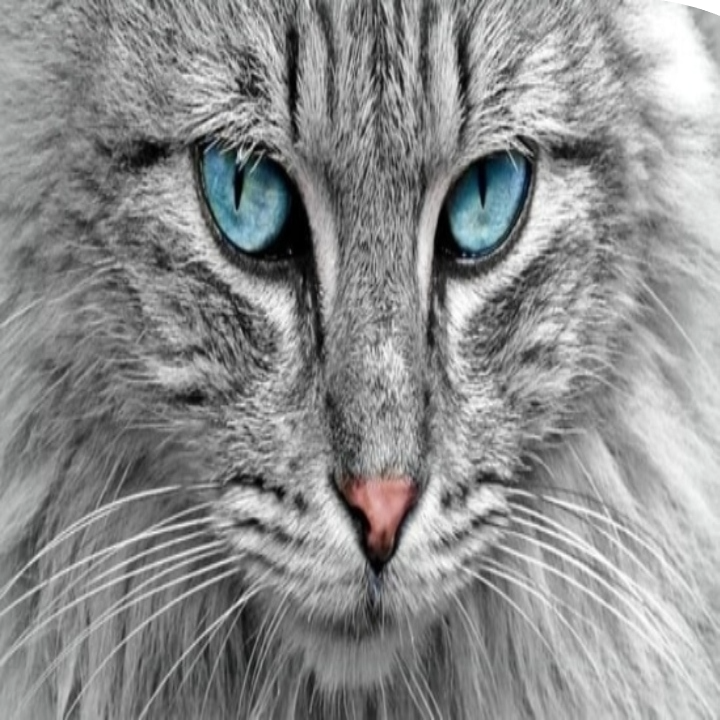Cat: (2, 0, 719, 717)
